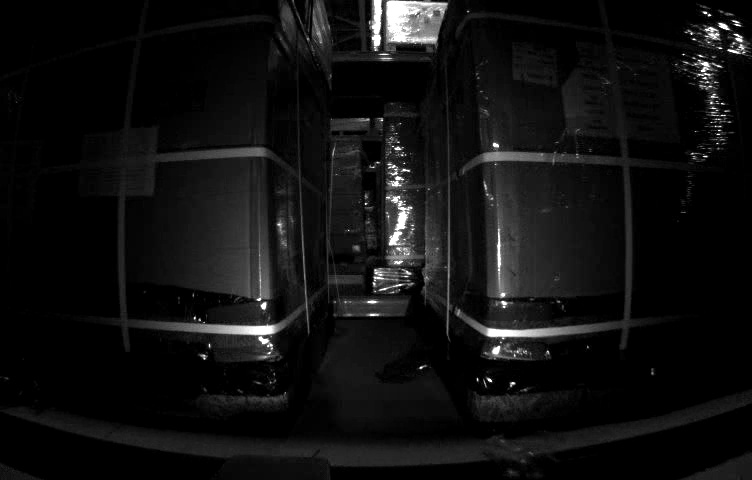True Barcode: (512, 40, 558, 86)
